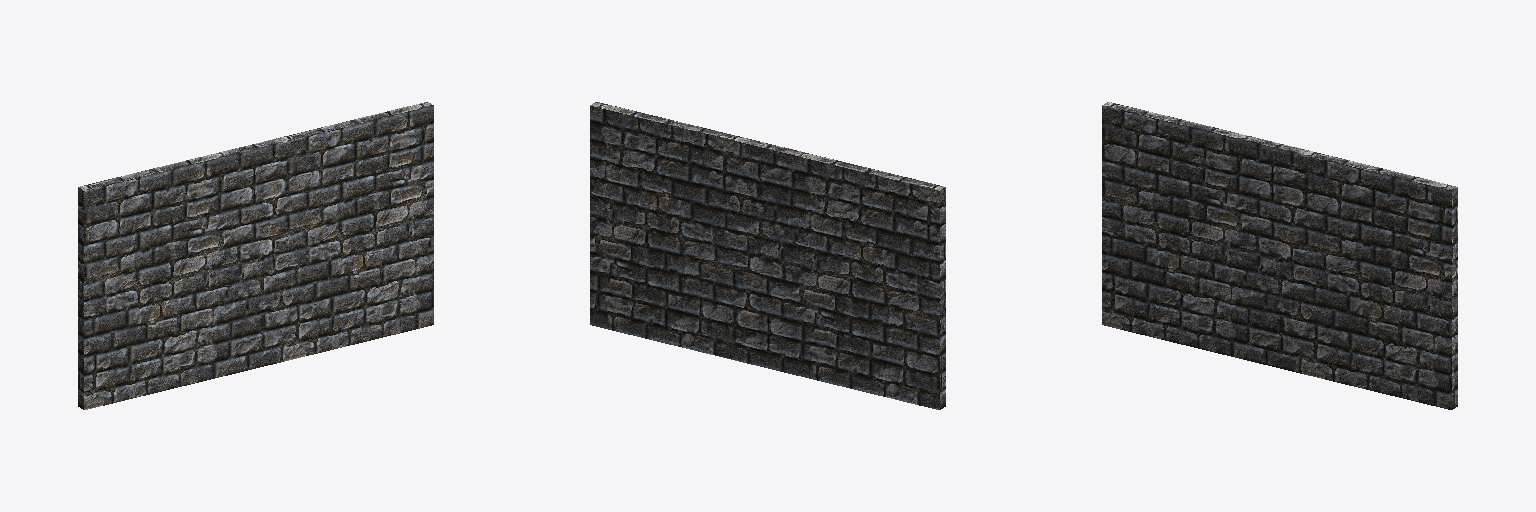
3 views of the same model, side by side, from view 1: azimuth 30°, elevation 25°; view 2: azimuth 150°, elevation 25°; view 3: azimuth 330°, elevation 25° (orthographic).
Size of the model in its own units: 0.5 by 0.3 by 0.014.
1 materials, 1 textured.